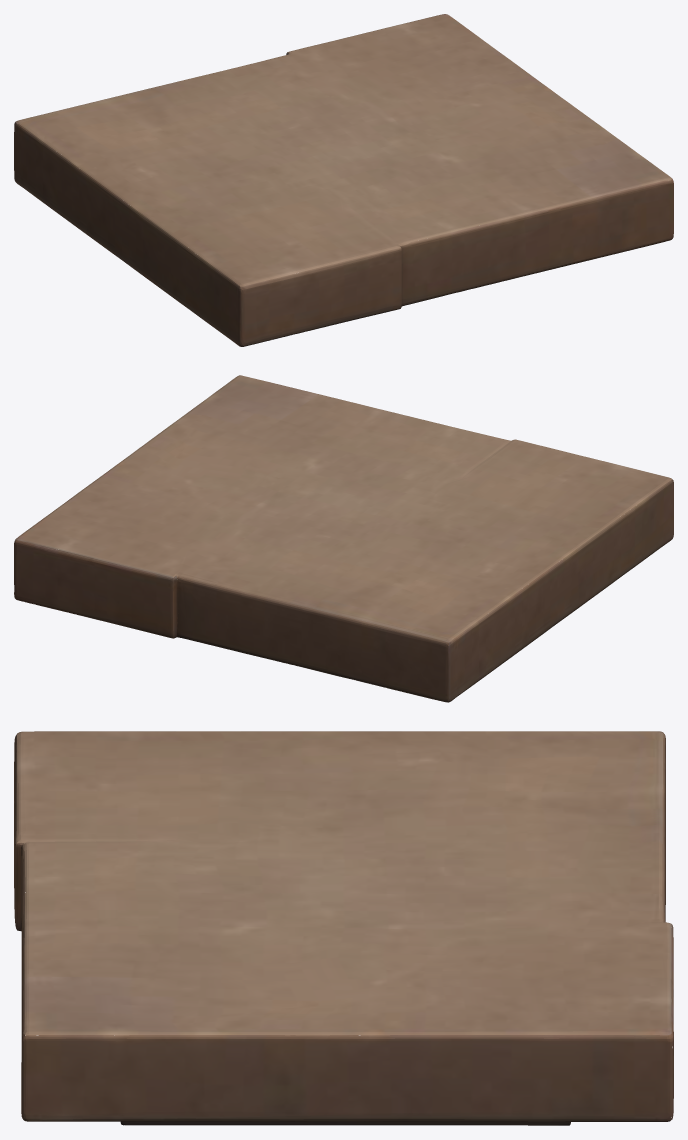
File: c-table-noyer.glb
3 views of the same model, one above another, from view 1: azimuth 30°, elevation 25°; view 2: azimuth 150°, elevation 25°; view 3: azimuth 270°, elevation 25° (orthographic). The views are drawn at different scales.
Visible parts, largest first — view 1: geometry_0; view 2: geometry_0; view 3: geometry_0.
Part boxes in pixels (x1,y1,x2,y2): geometry_0: (14,14,673,346); geometry_0: (14,375,673,702); geometry_0: (14,731,673,1125).
Bounding box in the file's own units: 1 × 0.1976 × 0.9148.
1 material, 1 textured.
